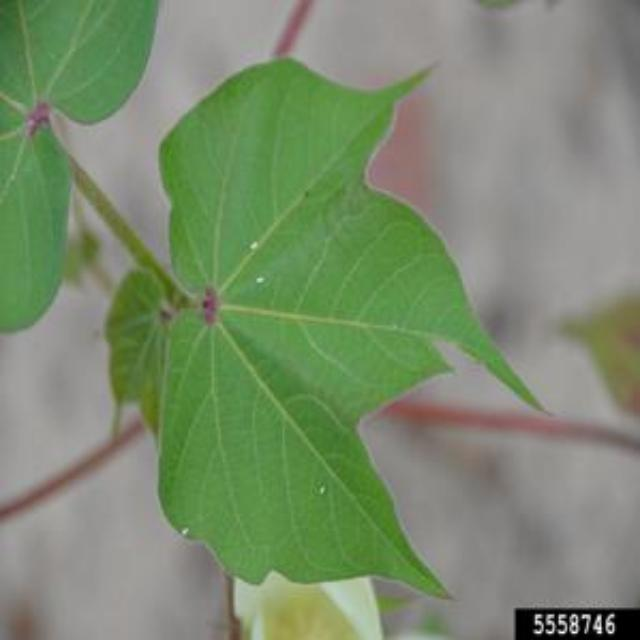Silverleaf whitefly: (250, 268, 268, 294), (314, 480, 332, 500), (248, 235, 264, 257), (180, 524, 192, 540)
